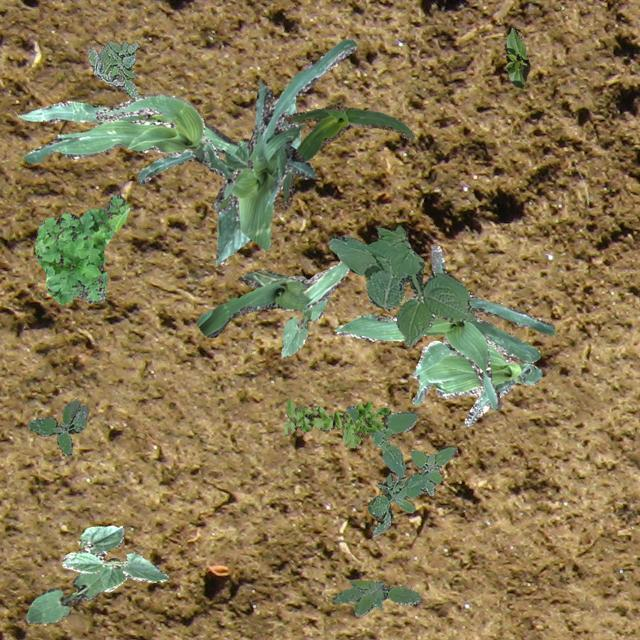crop: (334, 242, 554, 408), (212, 38, 356, 250), (22, 92, 232, 182), (278, 102, 414, 208), (214, 103, 300, 264), (19, 100, 238, 154), (195, 260, 348, 336), (412, 340, 540, 424), (61, 524, 168, 592), (26, 556, 119, 622), (281, 296, 327, 356), (504, 26, 528, 88)
weed: (328, 224, 476, 346), (344, 404, 456, 536), (34, 194, 128, 304), (282, 398, 390, 447), (27, 398, 88, 456), (86, 40, 138, 98), (332, 580, 419, 614)
